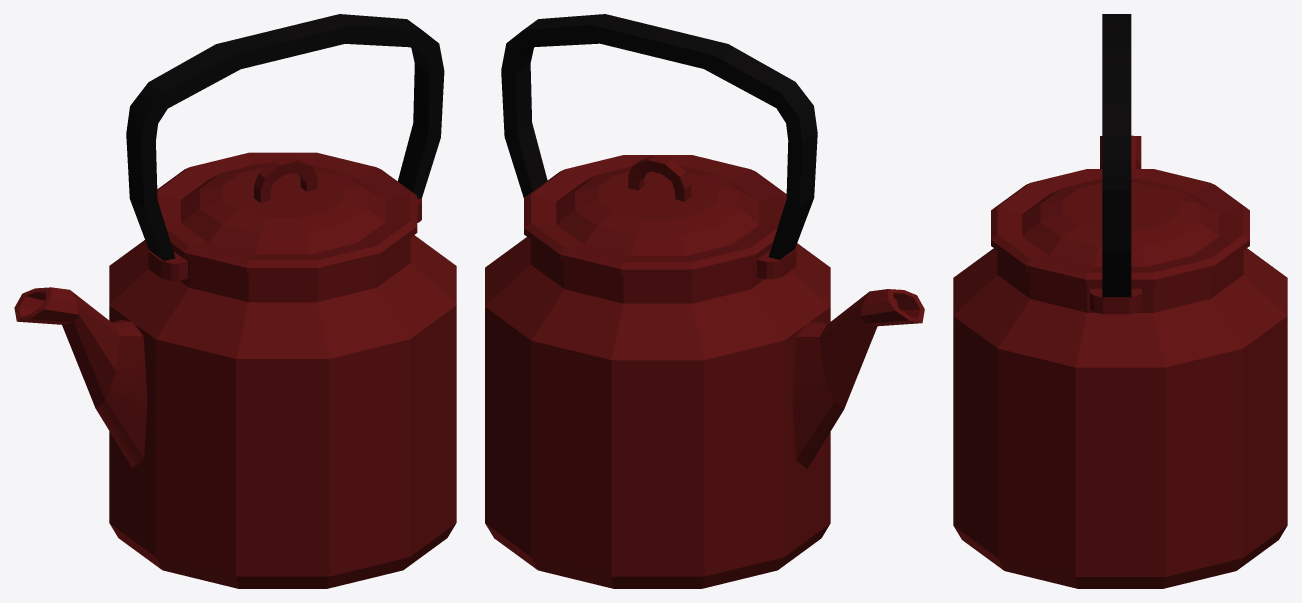
The model's file is Chaynik.FBX.
3 renders of one model, left to right at view 1: azimuth 30°, elevation 25°; view 2: azimuth 150°, elevation 25°; view 3: azimuth 270°, elevation 25°, orthographic. The views are drawn at different scales.
Parts seen in each view (by area): view 1: Chaynik_01; view 2: Chaynik_01; view 3: Chaynik_01.
Part boxes in pixels (x1,y1,x2,y2): Chaynik_01: (14,14,456,588); Chaynik_01: (485,14,924,588); Chaynik_01: (953,14,1287,588).
Bounding box in the file's own units: 20.5 × 14.75 × 22.78.
